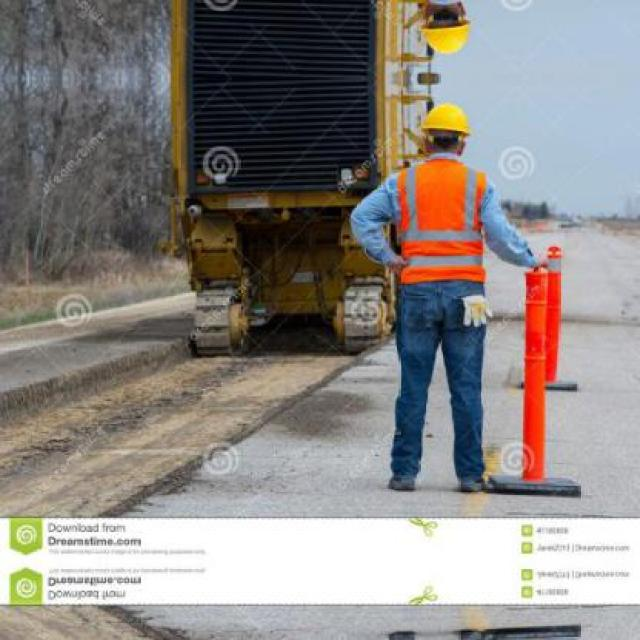helmet: (414, 98, 472, 158), (414, 0, 472, 60)
